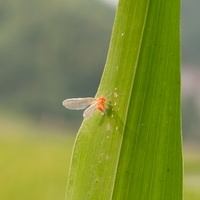insect: (62, 96, 109, 118)
